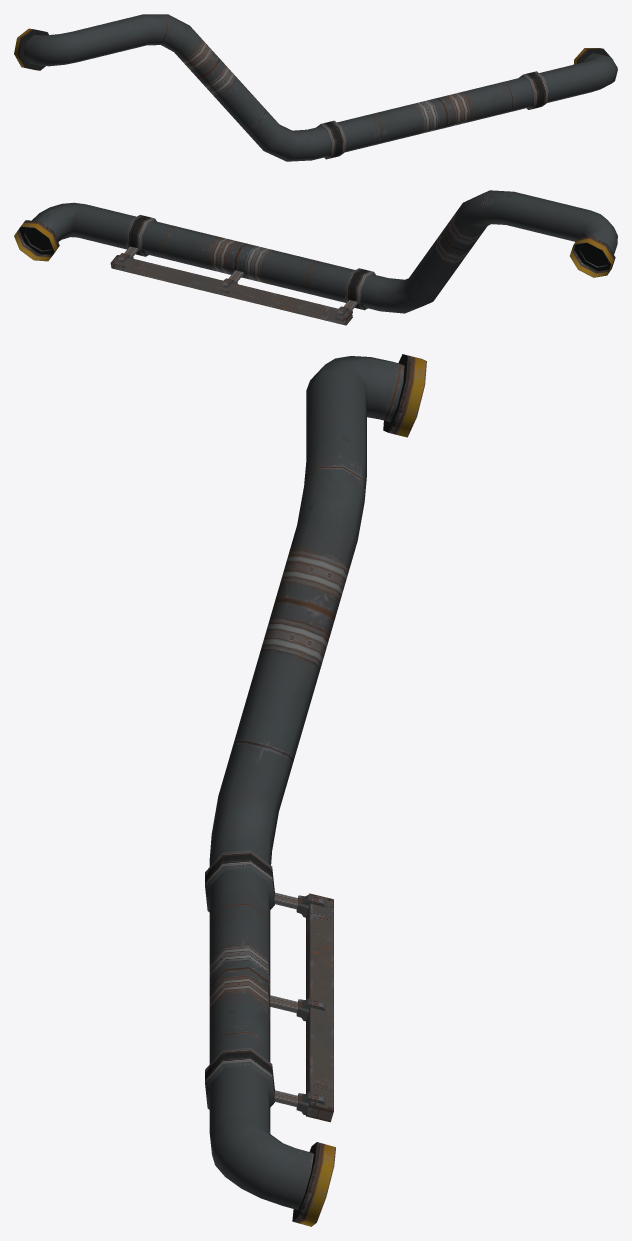
The model's file is Wall3_Pipe4_L1.fbx.
3 renders of one model, top to bottom at view 1: azimuth 30°, elevation 25°; view 2: azimuth 150°, elevation 25°; view 3: azimuth 270°, elevation 25°, orthographic. The views are drawn at different scales.
Parts seen in each view (by area): view 1: Wall3_Pipe4_L1; view 2: Wall3_Pipe4_L1; view 3: Wall3_Pipe4_L1.
Boxes of the visible parts, x1,y1,x2,y2 form: Wall3_Pipe4_L1: (14,14,617,161); Wall3_Pipe4_L1: (14,190,617,325); Wall3_Pipe4_L1: (205,354,426,1226).
Size of the model in its own units: 521 by 152 by 87.45.
